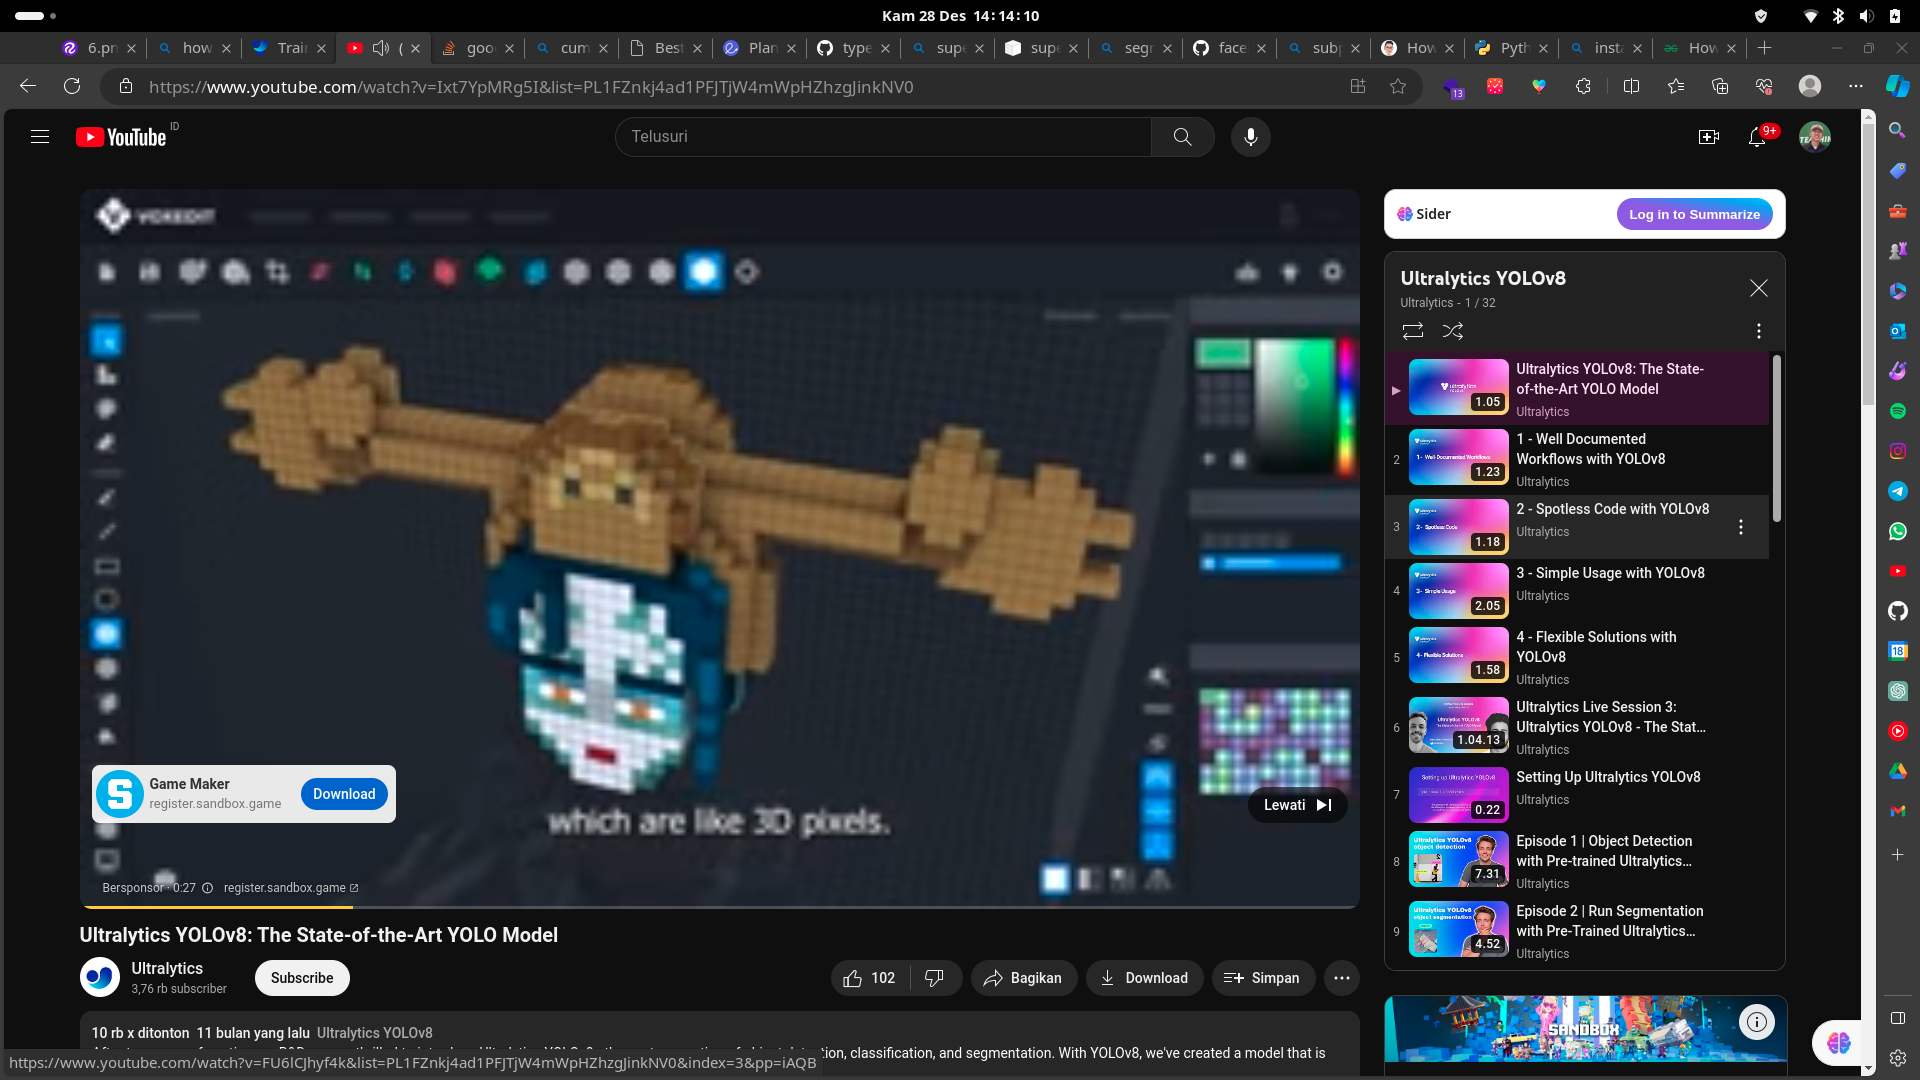Judul: (1408, 560, 1734, 626), (1408, 695, 1720, 760), (1407, 829, 1718, 894), (1408, 762, 1720, 825), (1406, 427, 1702, 489), (1406, 626, 1702, 688)
Judul Hover: (1407, 495, 1746, 560)
Musik: (69, 181, 1366, 914)
